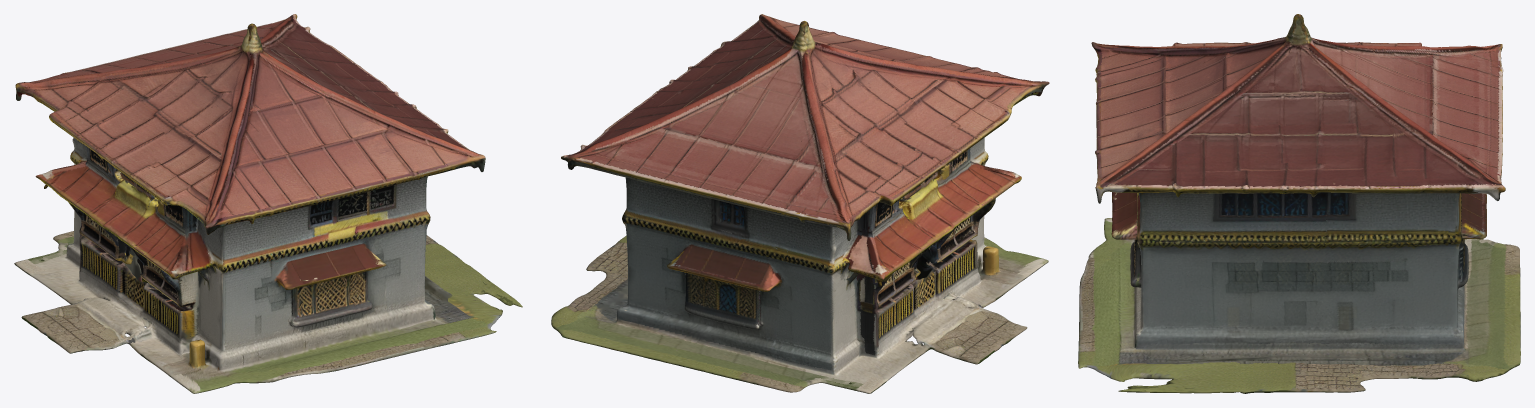
Rendered from 3d tour2.glb.
3 renders of one model, left to right at view 1: azimuth 30°, elevation 25°; view 2: azimuth 150°, elevation 25°; view 3: azimuth 270°, elevation 25°, orthographic. The views are drawn at different scales.
Parts seen in each view (by area): view 1: Mesh; view 2: Mesh; view 3: Mesh.
Part boxes in pixels (box(x1,y1,x2,y2)): Mesh: box(14, 14, 522, 393); Mesh: box(551, 14, 1049, 393); Mesh: box(1078, 14, 1520, 393).
Size of the model in its own units: 0.9878 by 0.6507 by 0.9207.
1 material, 1 textured.
